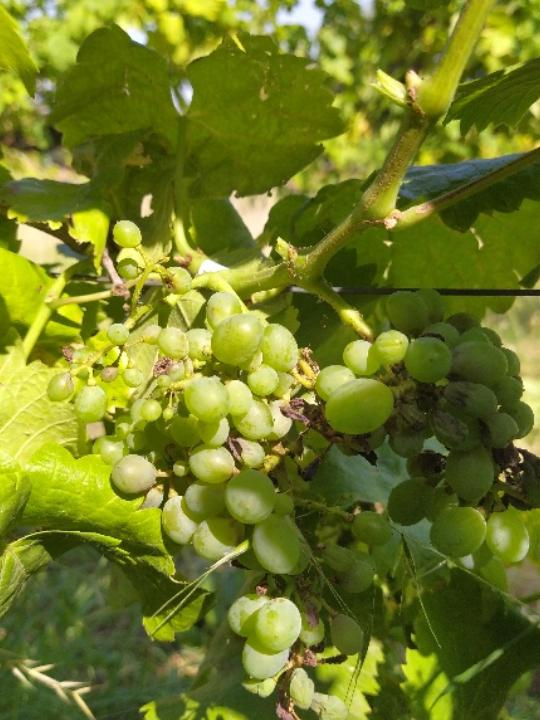grape: (42, 214, 377, 720), (310, 285, 540, 576)
